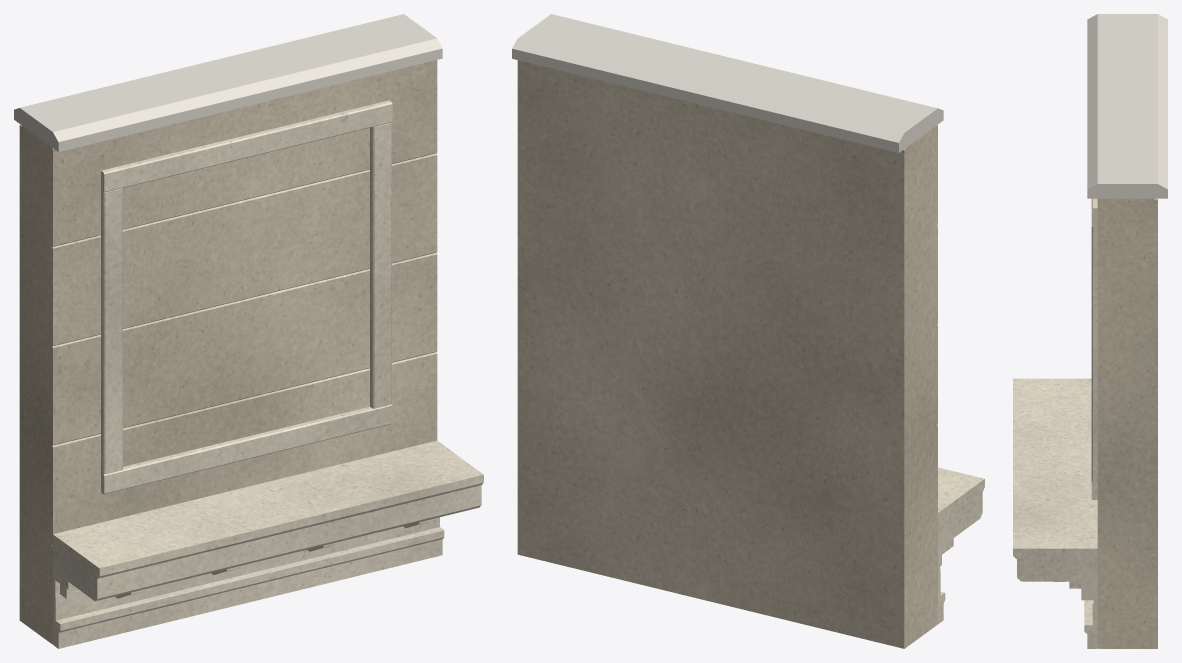
Rendered from pv_attic.glb.
3 views of the same model, side by side, from view 1: azimuth 30°, elevation 25°; view 2: azimuth 150°, elevation 25°; view 3: azimuth 270°, elevation 25° (orthographic). The views are drawn at different scales.
Visible parts, largest first — view 1: pv_attic_ashlar, pv_attic_trim, pv_attic_coping; view 2: pv_attic_ashlar, pv_attic_coping, pv_attic_trim; view 3: pv_attic_ashlar, pv_attic_trim, pv_attic_coping.
Boxes of the visible parts, x1,y1,x2,y2 form: pv_attic_ashlar: [19, 60, 437, 644]; pv_attic_trim: [53, 100, 483, 648]; pv_attic_coping: [14, 14, 442, 152]; pv_attic_ashlar: [517, 60, 937, 648]; pv_attic_coping: [512, 14, 943, 152]; pv_attic_trim: [937, 467, 984, 623]; pv_attic_ashlar: [1097, 198, 1157, 648]; pv_attic_trim: [1013, 198, 1097, 648]; pv_attic_coping: [1087, 14, 1167, 198].
Bounding box in the file's own units: 2 × 2.55 × 0.77.
Materials: 3 (2 with a texture image).
